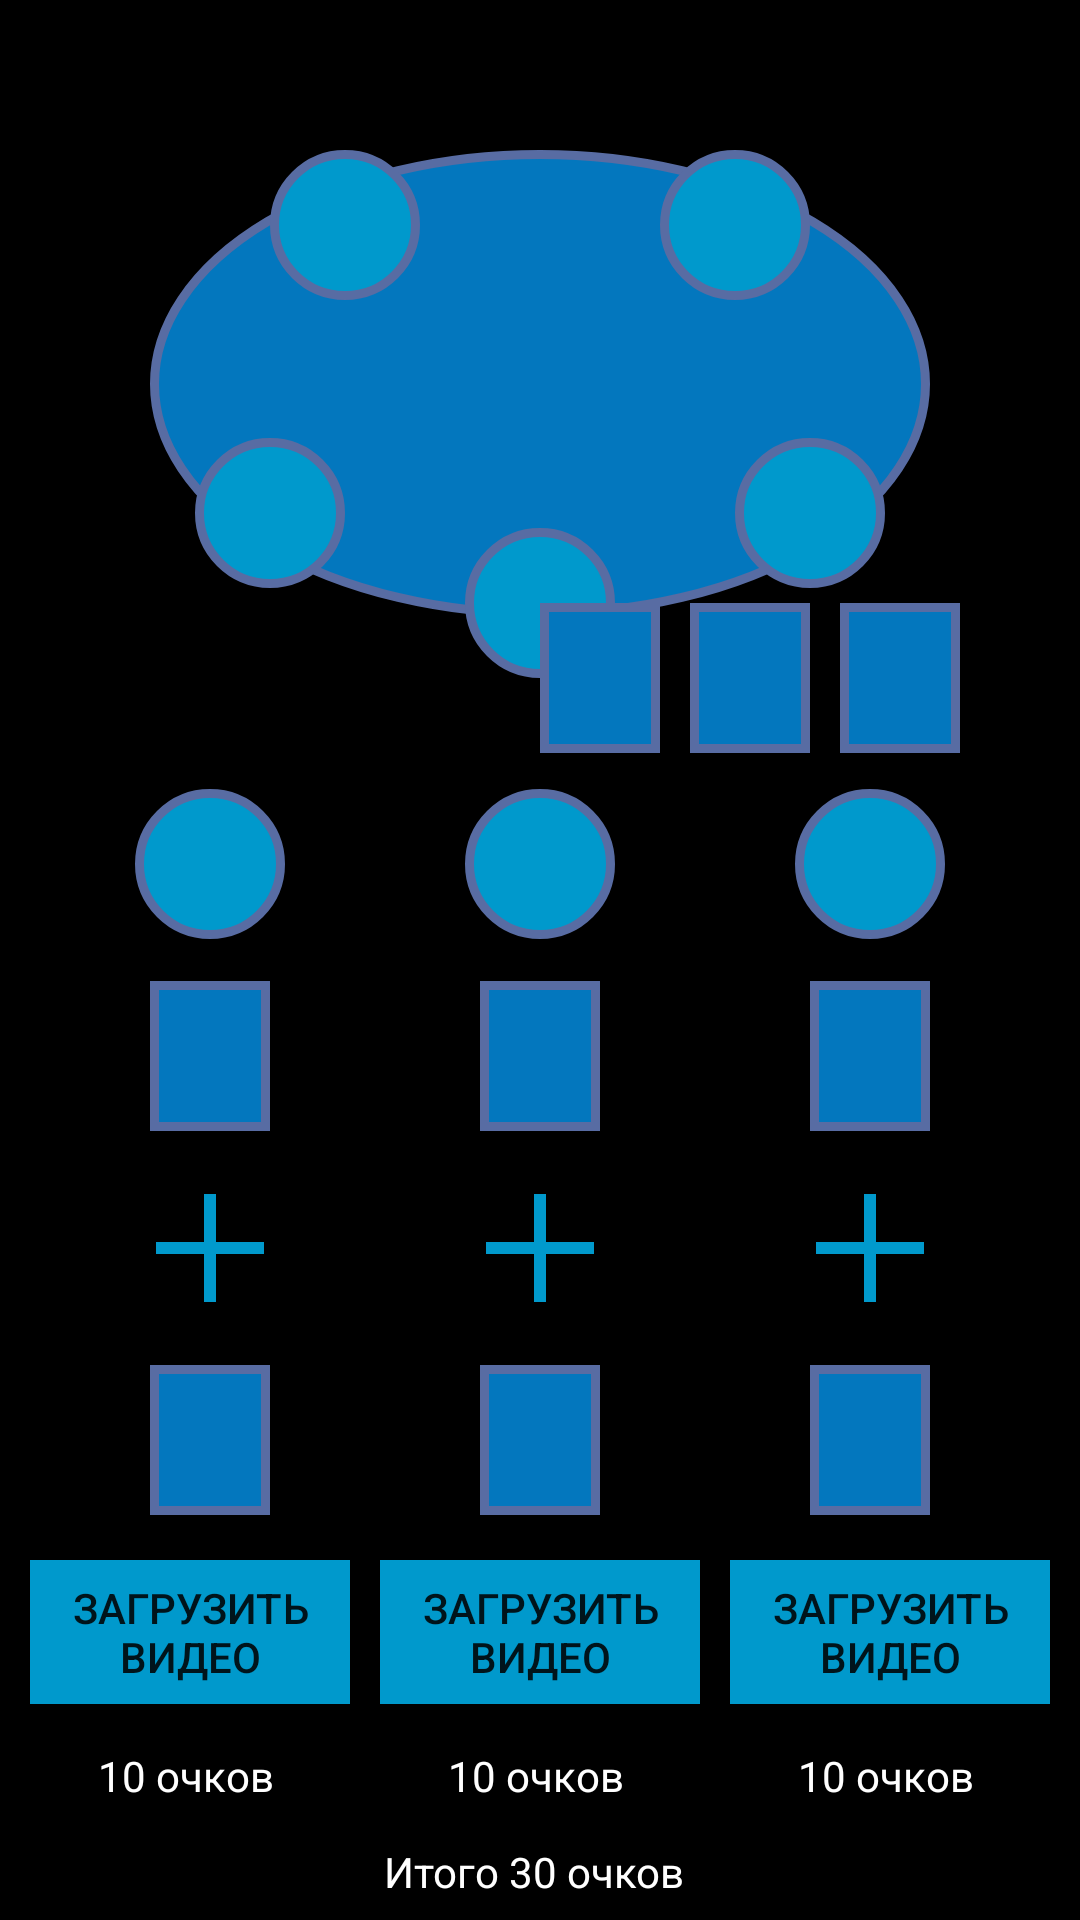

Named icons in this screenshot (1080×1920) and their centers, (x,y):
plus: (210,1248), (540,1248), (870,1248)
